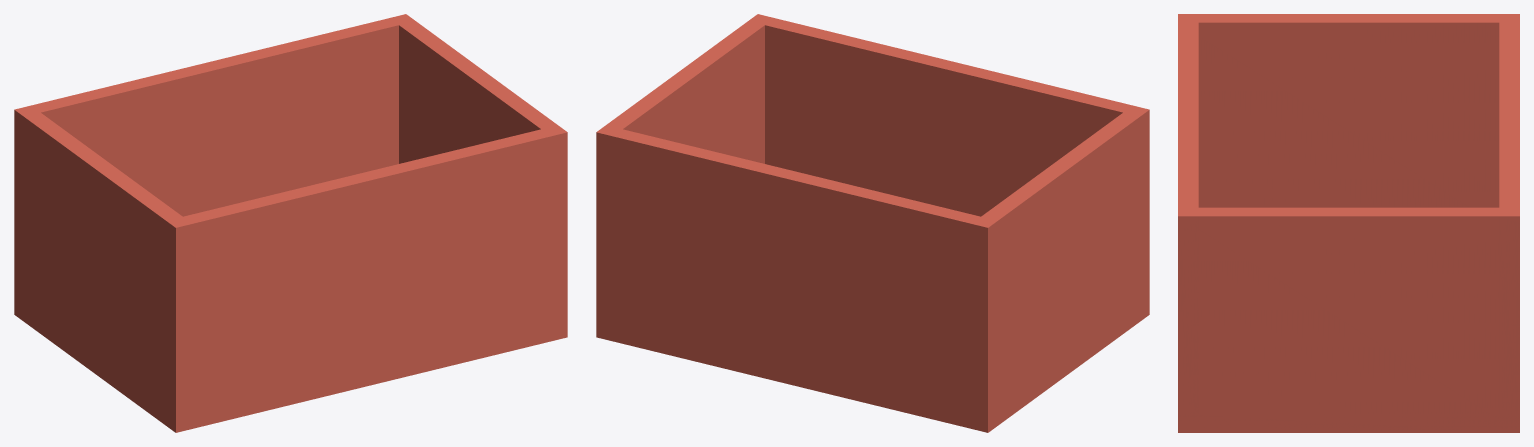
The model's file is crate_red.fbx.
3 renders of one model, left to right at view 1: azimuth 30°, elevation 25°; view 2: azimuth 150°, elevation 25°; view 3: azimuth 270°, elevation 25°, orthographic. The views are drawn at different scales.
Parts seen in each view (by area): view 1: crate_red; view 2: crate_red; view 3: crate_red.
Boxes of the visible parts, bbox=[...] form: crate_red: bbox=[14, 14, 567, 432]; crate_red: bbox=[596, 14, 1149, 432]; crate_red: bbox=[1178, 14, 1519, 432].
Bounding box in the file's own units: 0.14 × 0.07 × 0.1.
